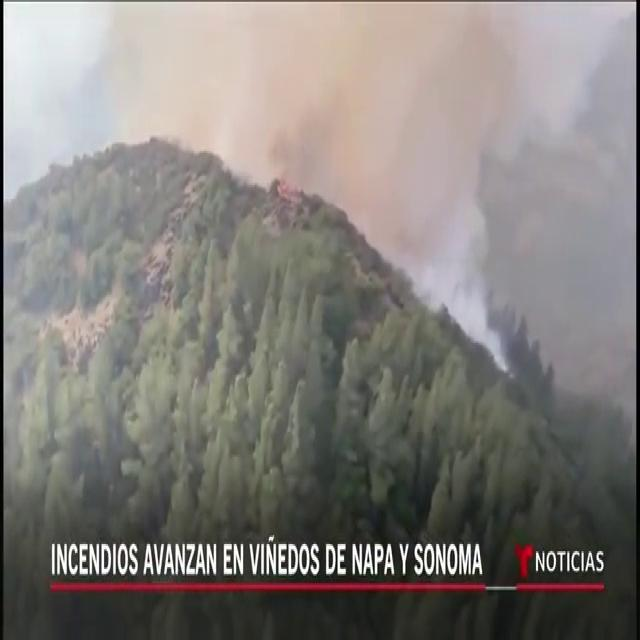Fire: (276, 174, 298, 206)
Smoke: (111, 23, 484, 156), (350, 169, 475, 264)
